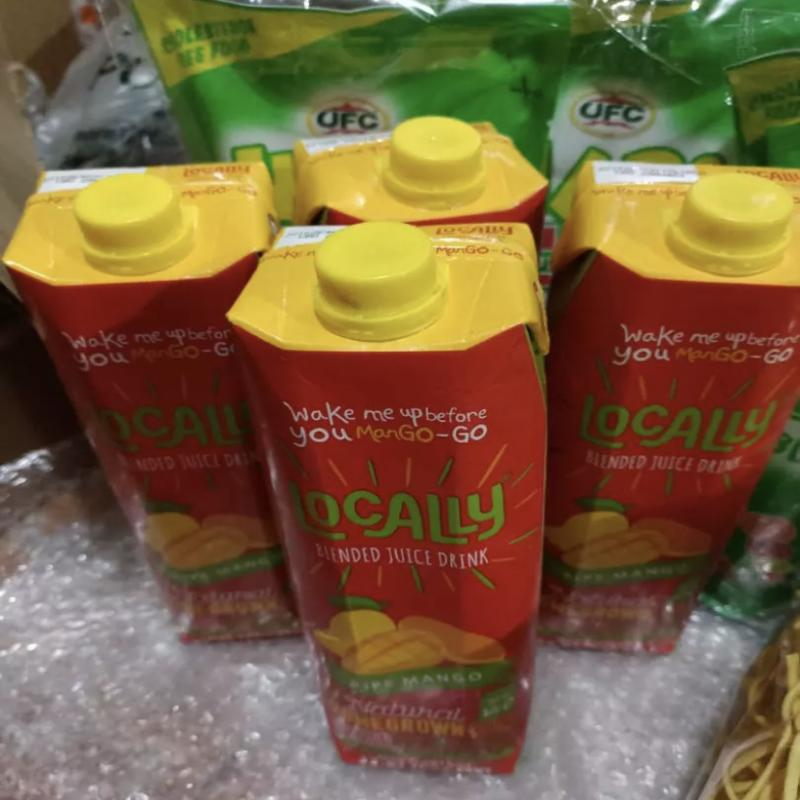uht carton: (225, 220, 551, 781), (535, 160, 800, 659), (292, 115, 550, 252)
